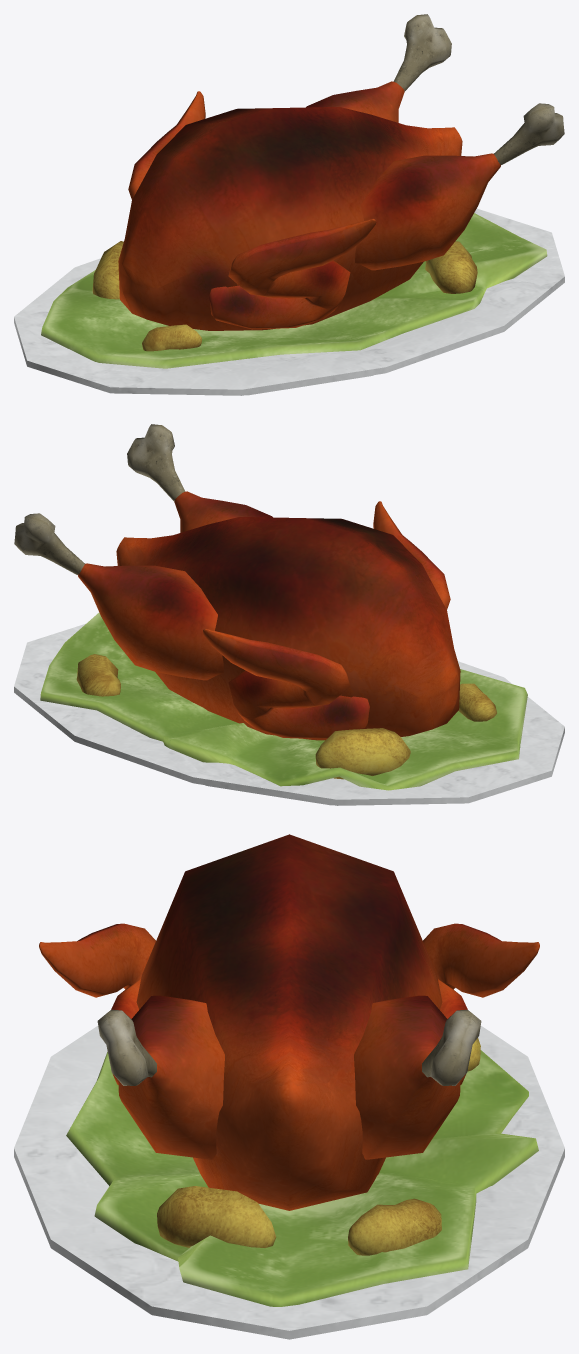
3 renders of one model, top to bottom at view 1: azimuth 30°, elevation 25°; view 2: azimuth 150°, elevation 25°; view 3: azimuth 270°, elevation 25°, orthographic. The views are drawn at different scales.
Visible parts, largest first — view 1: ge_TurkeyDinner1; view 2: ge_TurkeyDinner1; view 3: ge_TurkeyDinner1.
Boxes of the visible parts, x1,y1,x2,y2 form: ge_TurkeyDinner1: (14,14,564,395); ge_TurkeyDinner1: (14,424,564,805); ge_TurkeyDinner1: (14,834,564,1339).
Size of the model in its own units: 72.65 by 27.91 by 46.28.
Materials: 1 (1 with a texture image).
